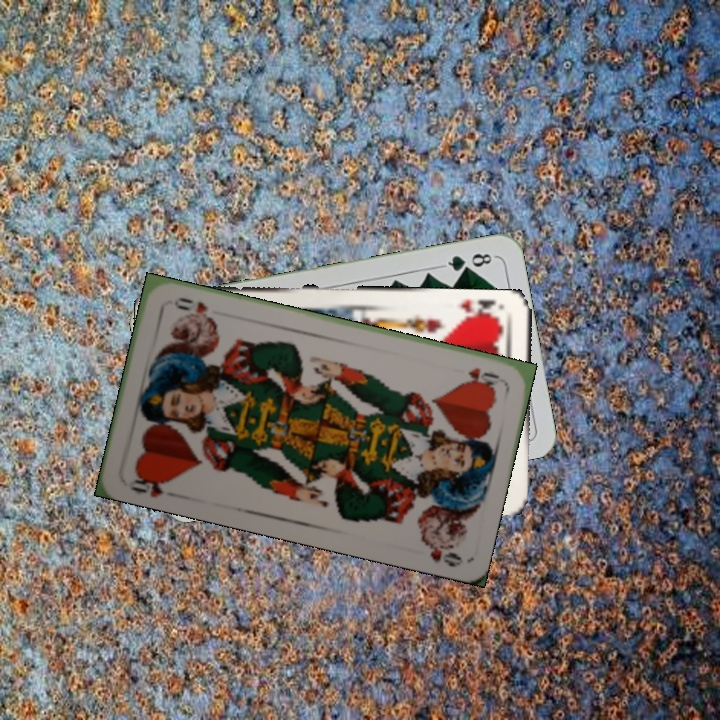G8: (439, 249, 498, 275)
HK: (456, 296, 502, 323)
HO: (122, 468, 176, 501), (461, 363, 502, 389)
